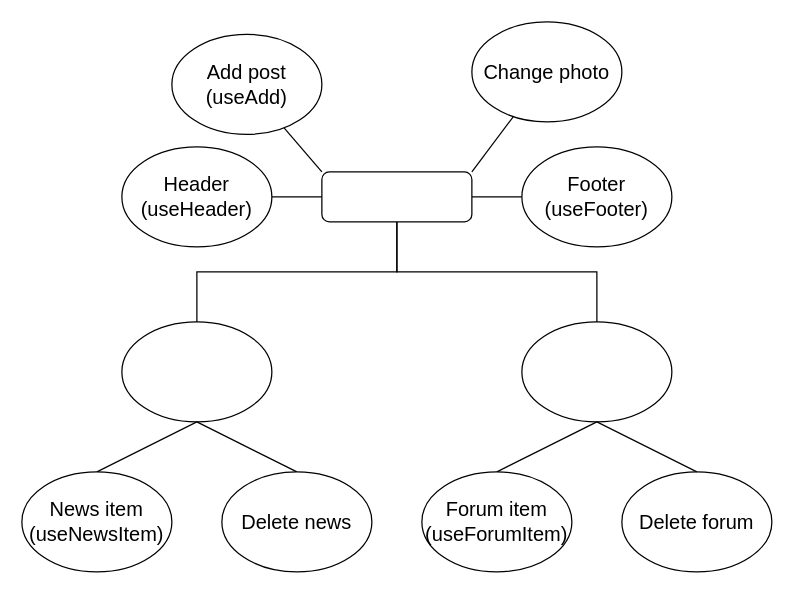
Some shapes in this 794 by 594 pixel diagram are drawn without their labels. The box of each missing label's shape, as (x1, y1, x2, y2) in pixels:
User: (321, 171, 472, 222)
User forum: (521, 321, 672, 422)
User news: (121, 321, 272, 422)
